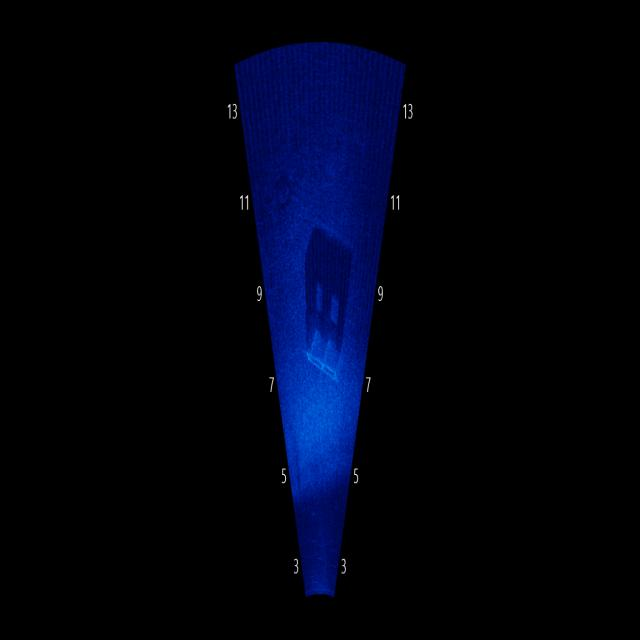square: (303, 315, 351, 386)
